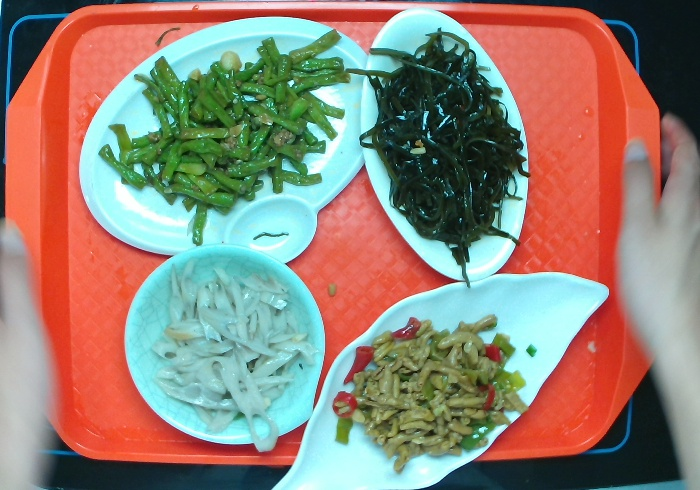RJxy-Bai_Se_Tuo_Yuan: (352, 2, 528, 284)
RJxy-Shu_Ye_Pan: (266, 269, 608, 490)
RJxy-Xiao_Jiao_Yuan_Wan: (120, 241, 329, 447)
RJxy-Zhan_Liao_Pan: (80, 17, 379, 267)
